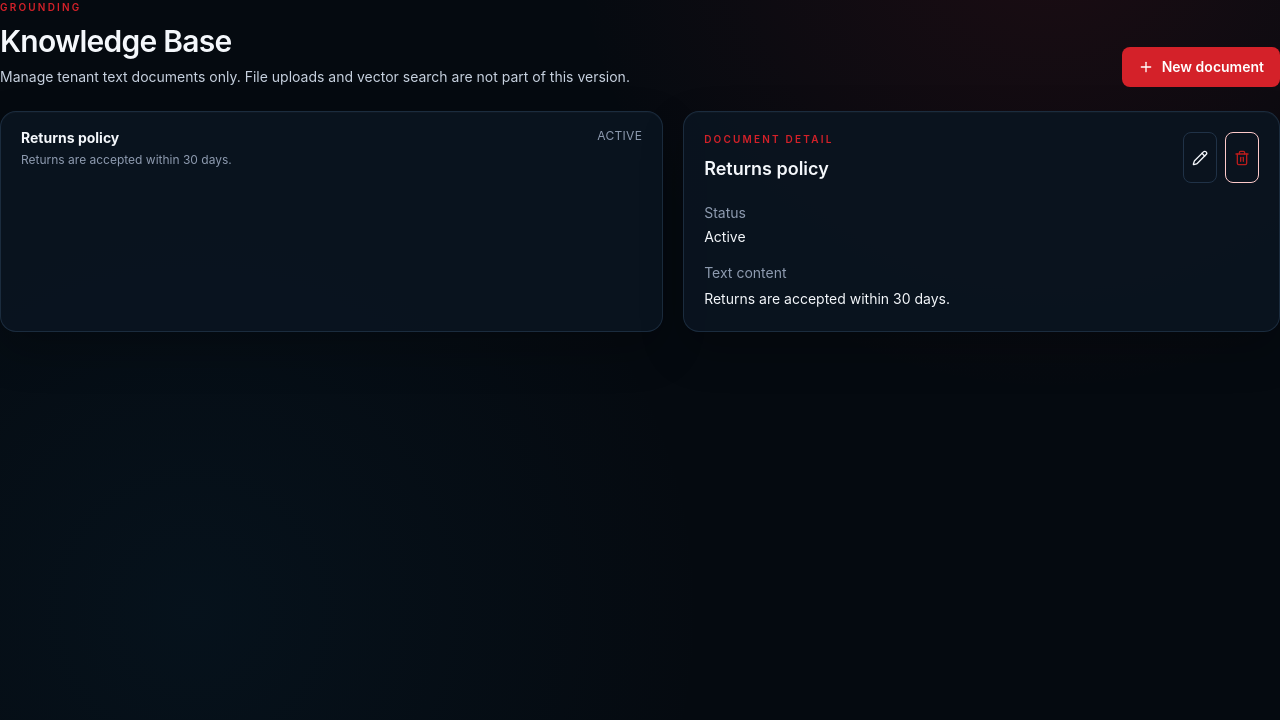
Test: KnowledgeBasePage legacy behavior › requires confirmation before deleting and supports cancellation
The image size is (1280, 720).
Step 1. Click the button named "Delete document" → coordinates (1242, 158), box x1=1225 y1=132 x2=1259 y2=183
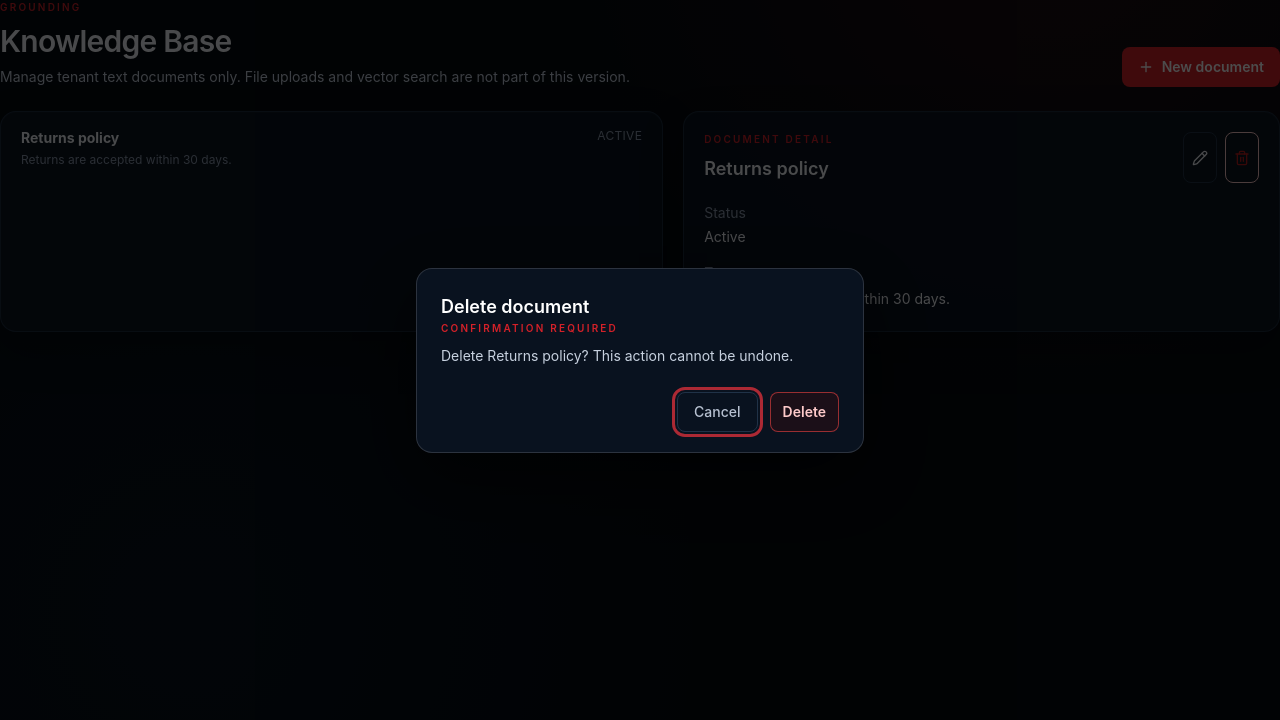
Expected: the dialog "Delete document" shows "Delete Returns policy? This action cannot be undone.", x1=441 y1=346 x2=793 y2=364
Step 2. Click the button "Cancel" → coordinates (717, 412), box x1=677 y1=392 x2=758 y2=432
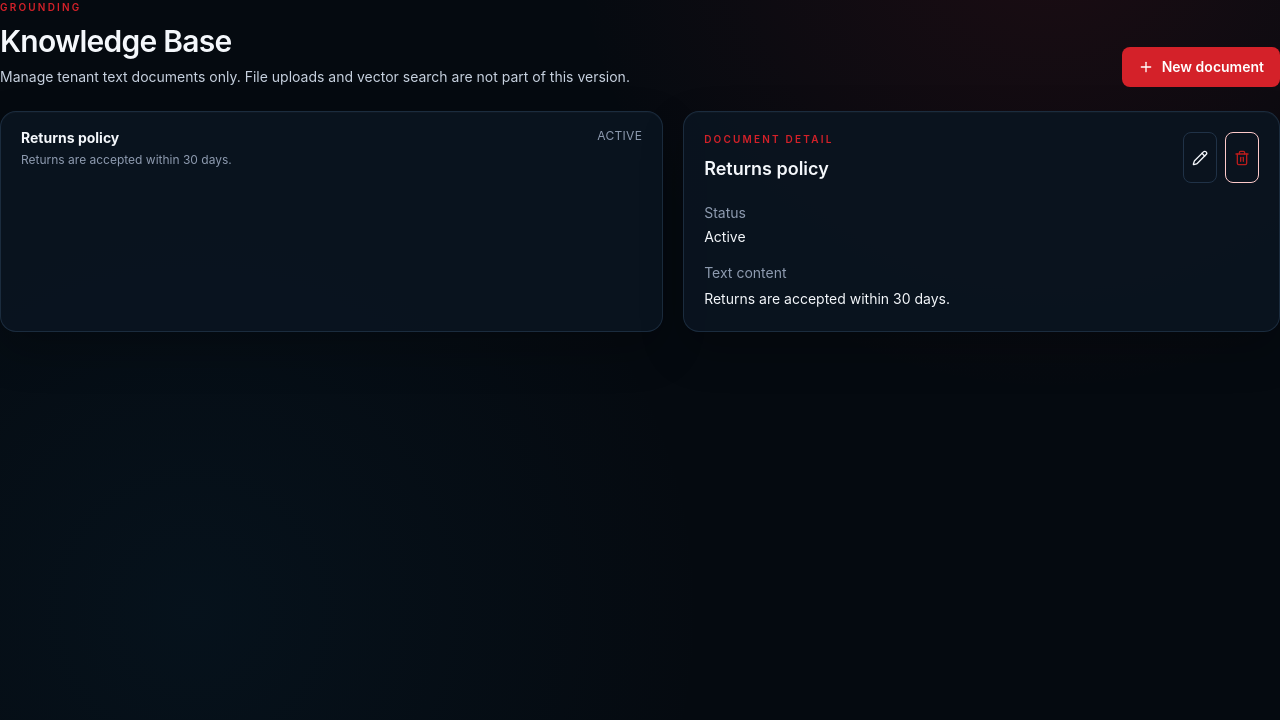
Expected: the dialog is gone
Step 3. Click the button named "Delete document" → coordinates (1242, 158), box x1=1225 y1=132 x2=1259 y2=183
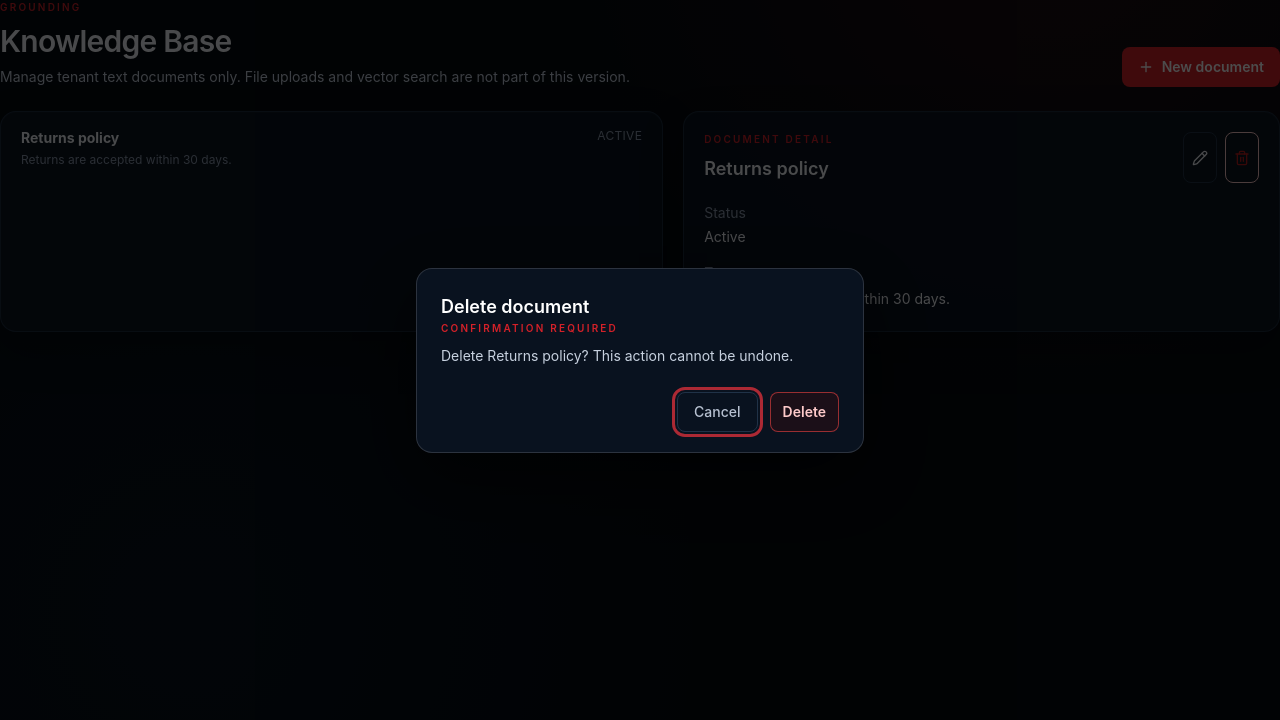
Step 4. Click the button "Delete" → coordinates (804, 412), box x1=770 y1=392 x2=839 y2=432
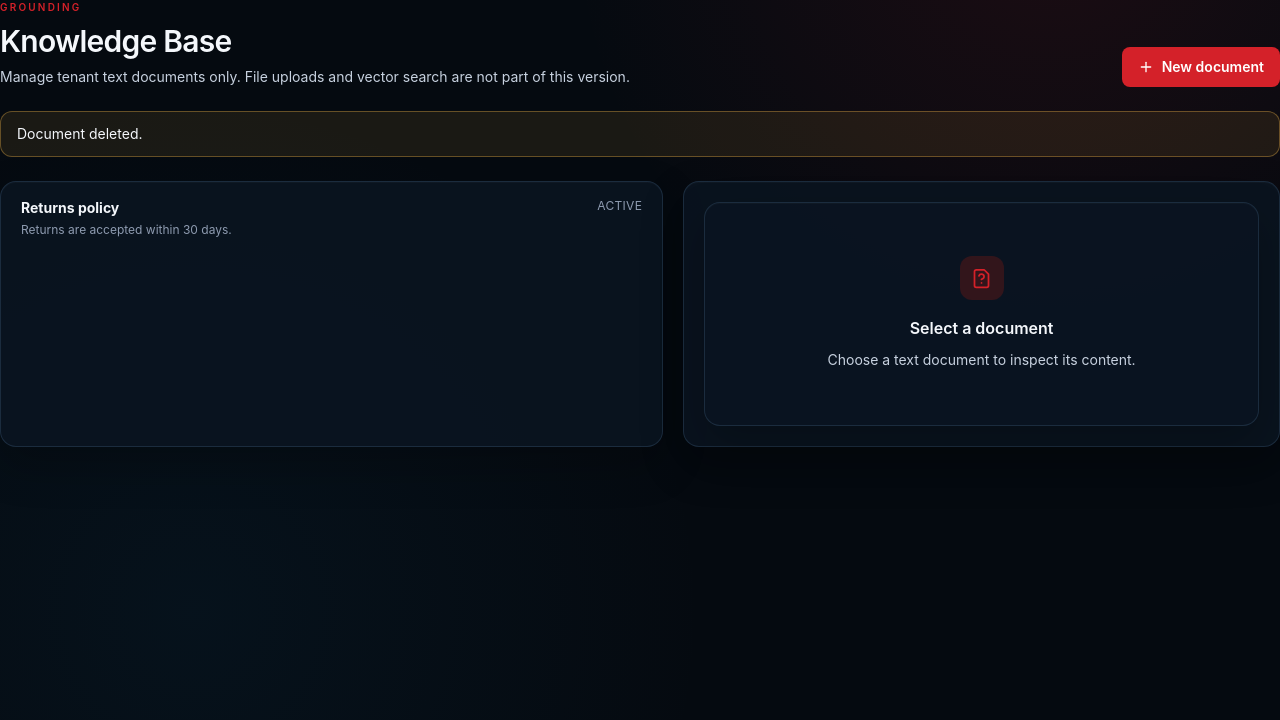
Expected: the text "Document deleted." is shown, x1=0 y1=111 x2=1279 y2=157
